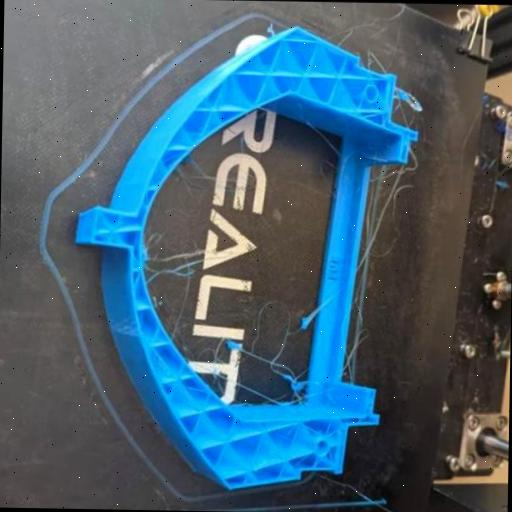stringing: (297, 156, 417, 337), (218, 331, 295, 381), (336, 326, 373, 381), (148, 250, 198, 282), (284, 370, 314, 404)
